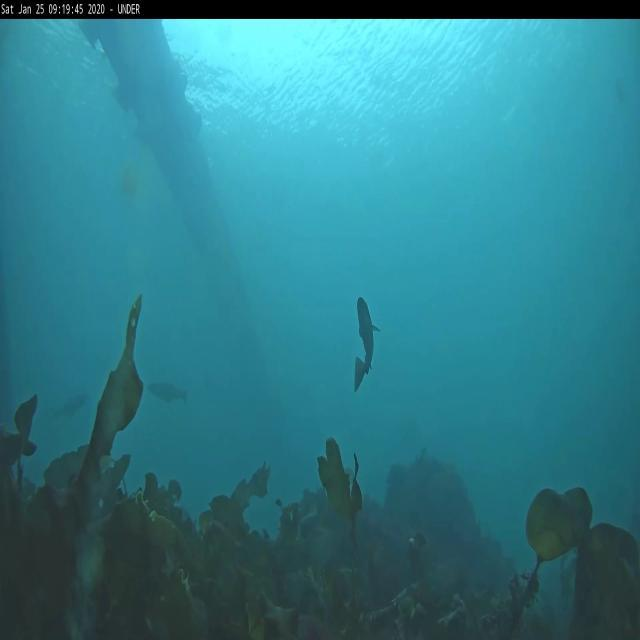fish: (352, 290, 376, 388), (146, 379, 189, 404)
